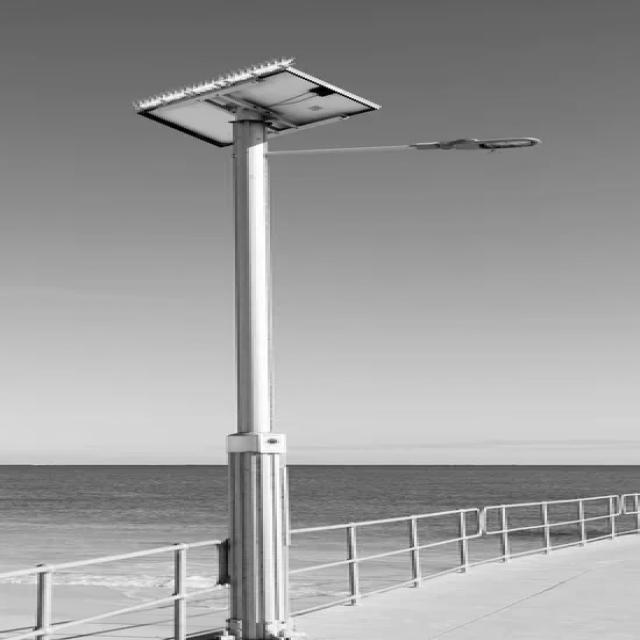Pole: (134, 59, 379, 640), (270, 138, 540, 154)
